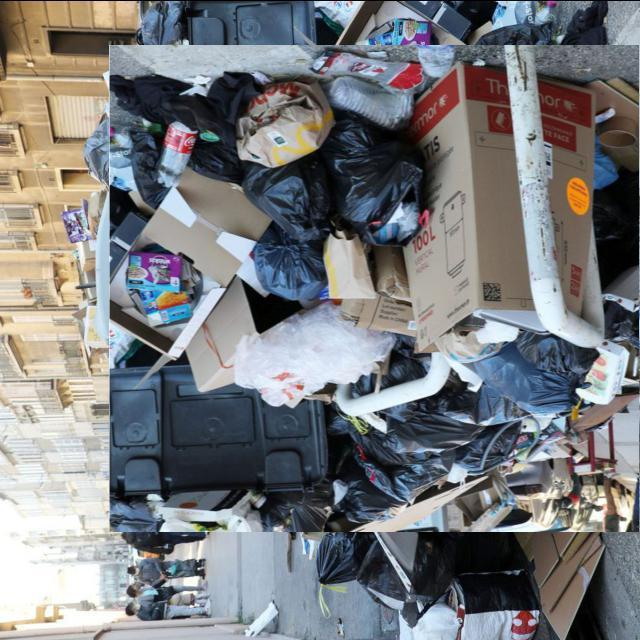Trashbag: (116, 76, 258, 190), (335, 129, 435, 254), (349, 360, 483, 451), (466, 329, 588, 426), (316, 436, 412, 523), (245, 162, 337, 242), (255, 221, 323, 306)
